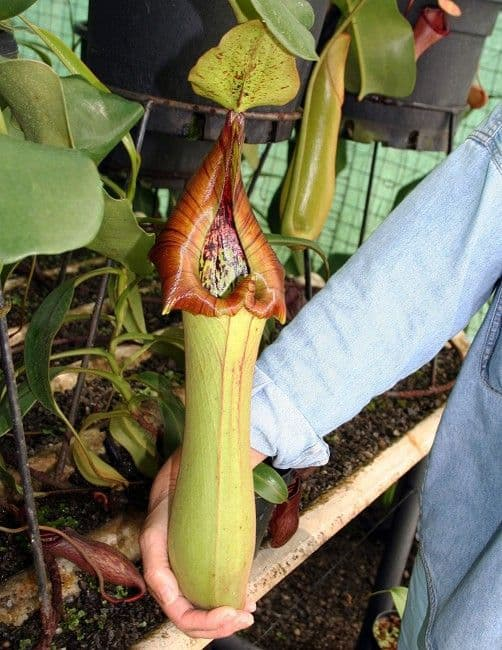truncata: (139, 9, 314, 631)
